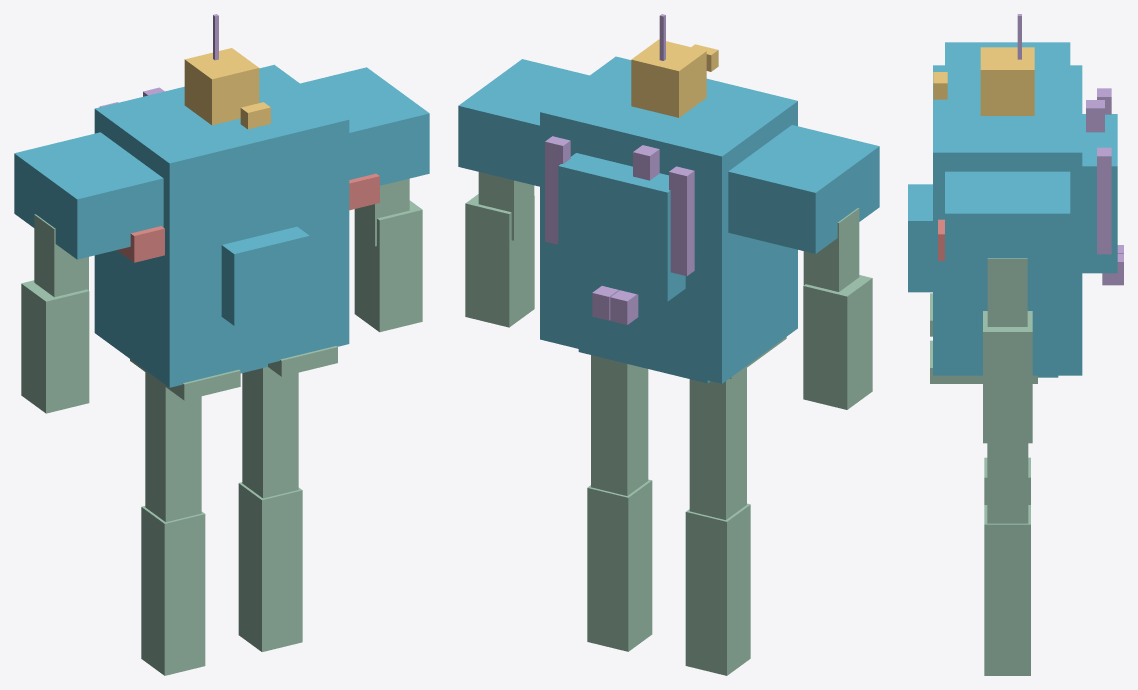
The model's file is mechfall_marauder.glb.
The picture shows the model from 3 angles, left to right: view 1: azimuth 30°, elevation 25°; view 2: azimuth 150°, elevation 25°; view 3: azimuth 270°, elevation 25°; orthographic projection.
Parts seen in each view (by area): view 1: TORSO HULL, SHOULDER L, UPPER LEG R, UPPER LEG L, SHOULDER R, FOREARM L, REACTOR CORE, FOREARM R, LOWER LEG L, LOWER LEG R, COCKPIT CANOPY, UPPER ARM L (+6 smaller); view 2: TORSO HULL, SHOULDER L, EW BACKPACK, UPPER LEG L, UPPER LEG R, SHOULDER R, FOREARM L, LOWER LEG L, FOREARM R, LOWER LEG R, COCKPIT CANOPY, UPPER ARM L (+6 smaller); view 3: TORSO HULL, SHOULDER R, UPPER LEG R, FOREARM R, EW BACKPACK, COCKPIT CANOPY, LOWER LEG R, UPPER ARM R, REACTOR CORE, SHOULDER L, RADIATOR R, FOOT R (+3 smaller).
Boxes of the visible parts, x1=… form: TORSO HULL: x1=94, y1=64, x2=349, y2=387; SHOULDER L: x1=14, y1=132, x2=163, y2=259; UPPER LEG R: x1=238, y1=482, x2=302, y2=651; UPPER LEG L: x1=141, y1=506, x2=205, y2=675; SHOULDER R: x1=300, y1=67, x2=429, y2=185; FOREARM L: x1=21, y1=280, x2=89, y2=413; REACTOR CORE: x1=221, y1=226, x2=309, y2=325; FOREARM R: x1=354, y1=200, x2=422, y2=332; LOWER LEG L: x1=145, y1=372, x2=201, y2=521; LOWER LEG R: x1=242, y1=367, x2=298, y2=498; COCKPIT CANOPY: x1=184, y1=48, x2=259, y2=125; UPPER ARM L: x1=34, y1=214, x2=88, y2=297; TORSO HULL: x1=540, y1=56, x2=797, y2=383; SHOULDER L: x1=728, y1=125, x2=879, y2=253; EW BACKPACK: x1=558, y1=153, x2=685, y2=301; UPPER LEG L: x1=685, y1=503, x2=750, y2=675; UPPER LEG R: x1=587, y1=479, x2=652, y2=651; SHOULDER R: x1=458, y1=59, x2=589, y2=186; FOREARM L: x1=803, y1=275, x2=872, y2=409; LOWER LEG L: x1=689, y1=368, x2=746, y2=519; FOREARM R: x1=465, y1=194, x2=534, y2=327; LOWER LEG R: x1=591, y1=355, x2=648, y2=495; COCKPIT CANOPY: x1=631, y1=39, x2=706, y2=117; UPPER ARM L: x1=803, y1=208, x2=859, y2=291; TORSO HULL: x1=933, y1=65, x2=1082, y2=375; SHOULDER R: x1=945, y1=171, x2=1070, y2=273; UPPER LEG R: x1=984, y1=505, x2=1030, y2=675; FOREARM R: x1=983, y1=311, x2=1032, y2=443; EW BACKPACK: x1=1082, y1=114, x2=1117, y2=273; COCKPIT CANOPY: x1=980, y1=47, x2=1034, y2=115; LOWER LEG R: x1=987, y1=443, x2=1028, y2=523; UPPER ARM R: x1=987, y1=258, x2=1027, y2=326; REACTOR CORE: x1=908, y1=184, x2=932, y2=292; SHOULDER L: x1=945, y1=42, x2=1070, y2=65; RADIATOR R: x1=1097, y1=147, x2=1111, y2=254; FOOT R: x1=930, y1=340, x2=1037, y2=383.
Size of the model in its own units: 5.89 by 9.42 by 2.94.
